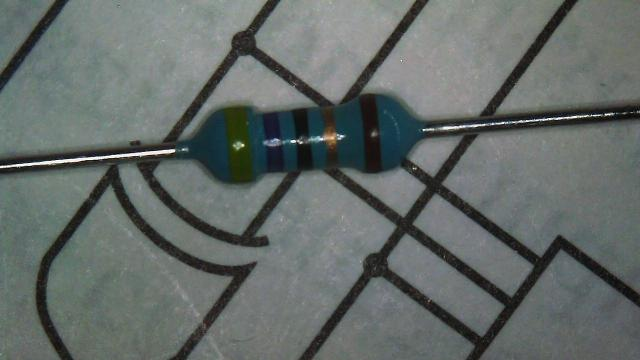black: (292, 108, 312, 170)
brown: (358, 93, 382, 172)
gold: (322, 106, 338, 168)
resistor: (178, 79, 427, 193)
violet: (262, 112, 284, 171)
yellow: (225, 106, 254, 182)
